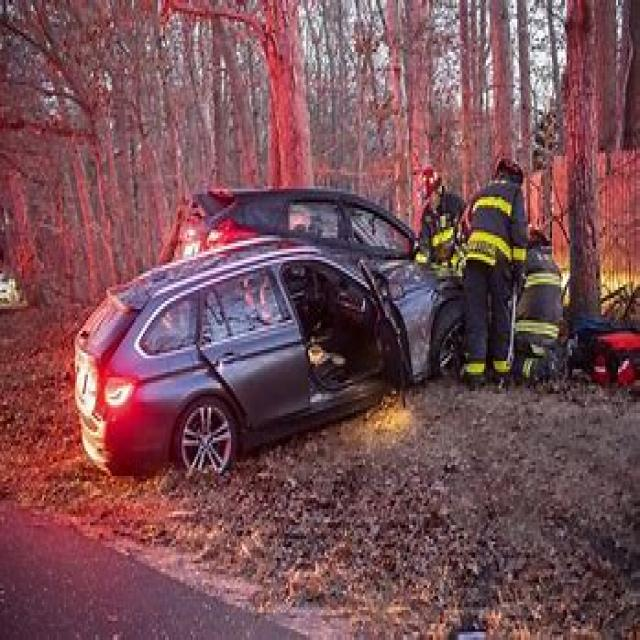Accident: (102, 75, 597, 499)
